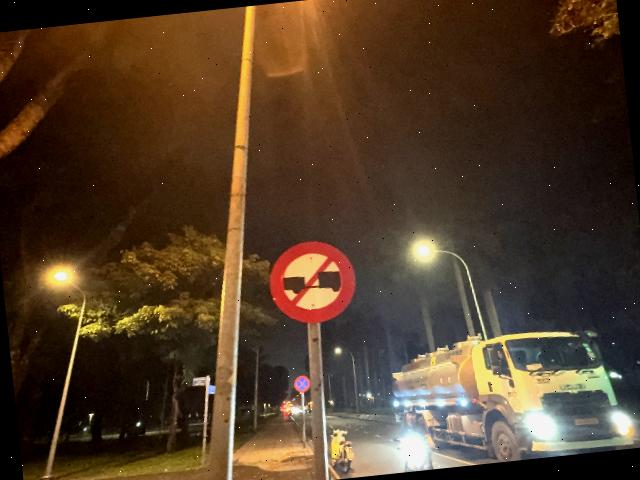cam-xe-somi-romooc: (266, 237, 360, 328)
